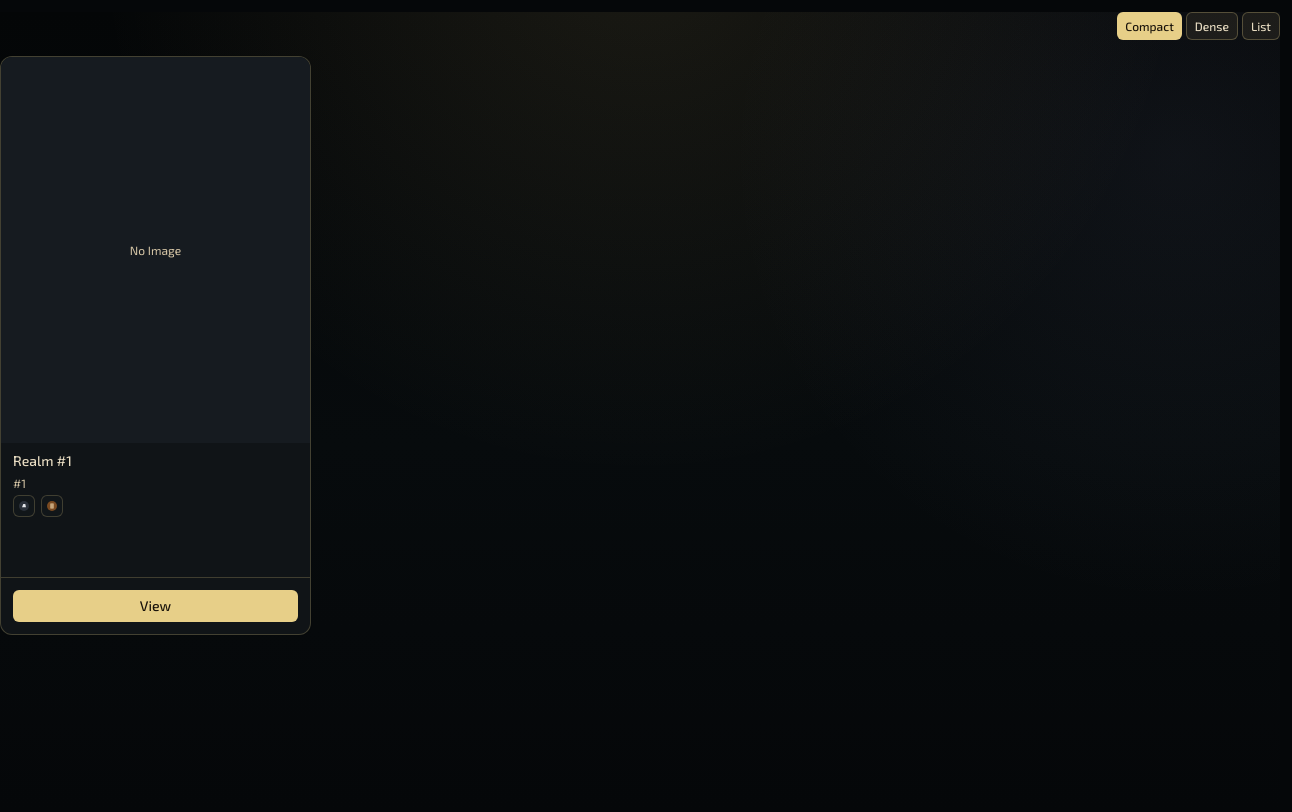
collection token grid › shows_resource_traits_inline_in_list_view_for_realms
The image size is (1292, 812).
Click the button "List" at (1261, 26), box [1242,12,1280,40]
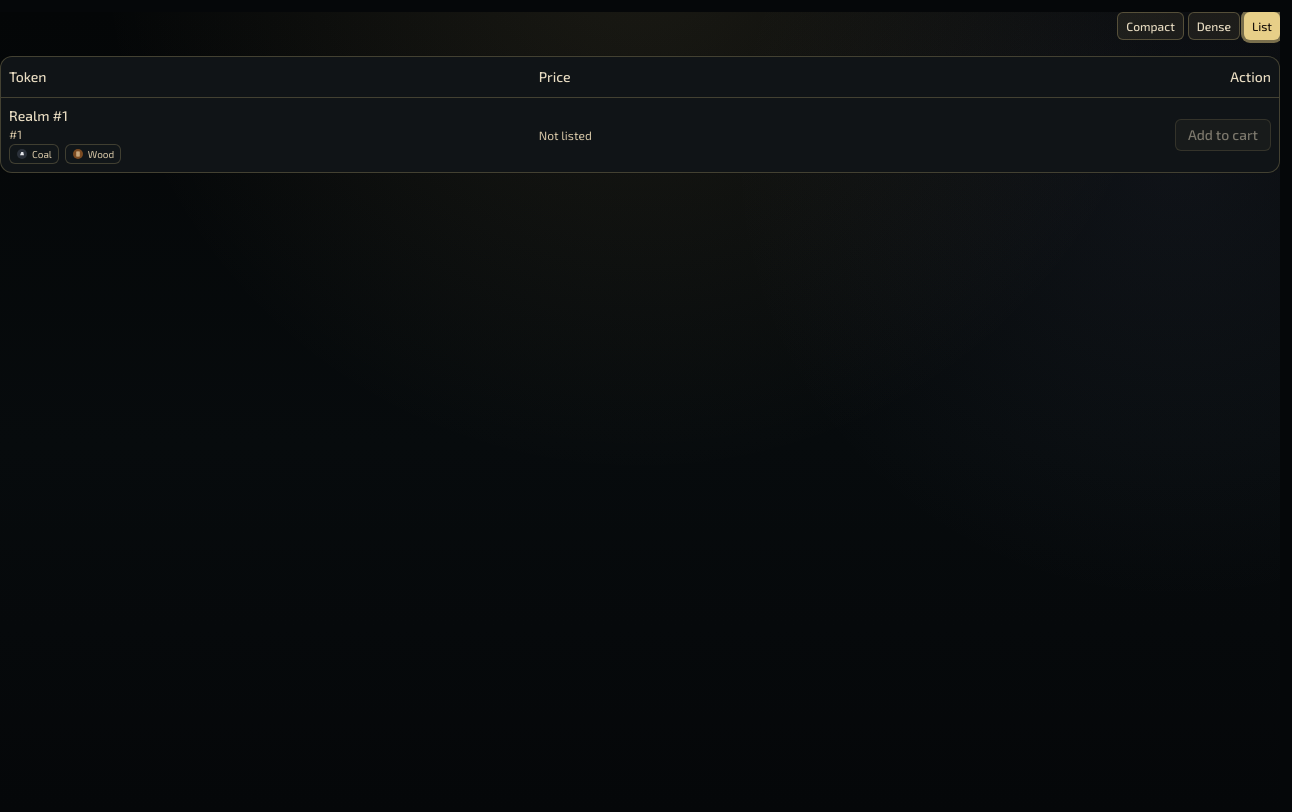
Expected: the element with test id "resource-trait-icons" shows "Coal", [32,148,52,160]
Expected: the element with test id "resource-trait-icons" shows "Wood", [88,148,114,160]
